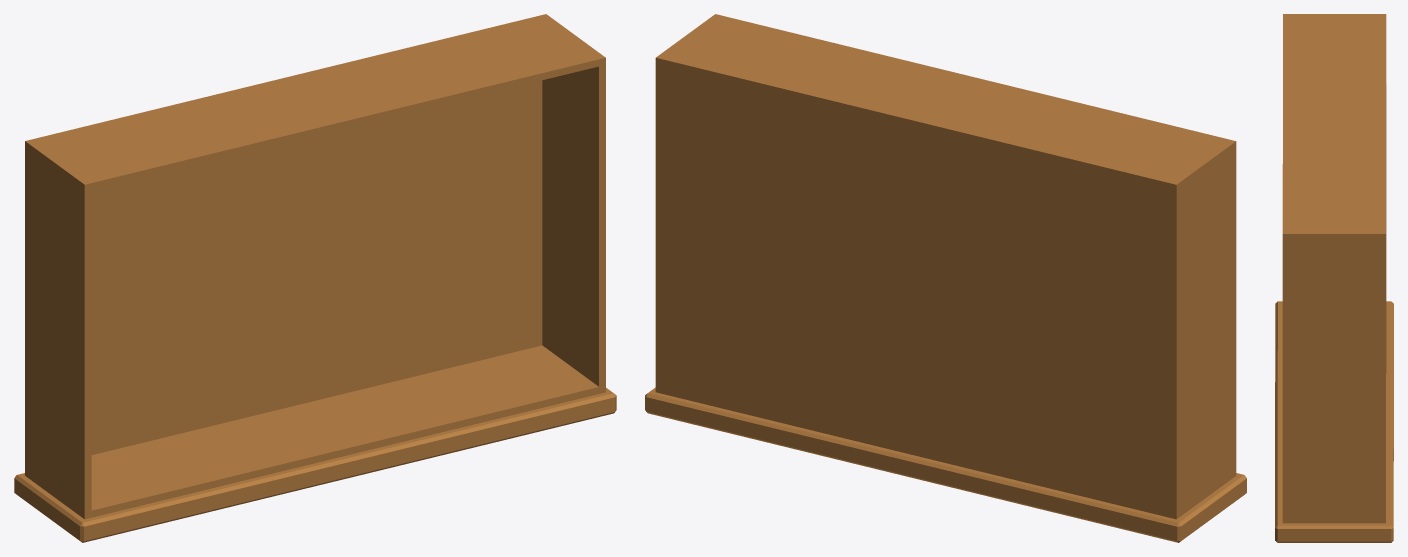
File: DrawermeshDresserDrawer_315_9_1.obj
3 renders of one model, left to right at view 1: azimuth 30°, elevation 25°; view 2: azimuth 150°, elevation 25°; view 3: azimuth 270°, elevation 25°, orthographic. The views are drawn at different scales.
Parts seen in each view (by area): view 1: DresserDrawer_315_9; view 2: DresserDrawer_315_9; view 3: DresserDrawer_315_9.
Part boxes in pixels (x1=…): DresserDrawer_315_9: x1=14, y1=14, x2=616, y2=542; DresserDrawer_315_9: x1=645, y1=14, x2=1246, y2=542; DresserDrawer_315_9: x1=1275, y1=14, x2=1393, y2=542.
Bounding box in the file's own units: 0.7899 × 0.5169 × 0.1753.
